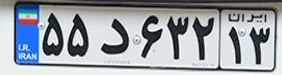character: (95, 12, 133, 60), (133, 13, 165, 61), (64, 12, 93, 59), (165, 12, 191, 63), (40, 10, 67, 59), (190, 12, 216, 62), (248, 24, 273, 67), (226, 24, 245, 66)
